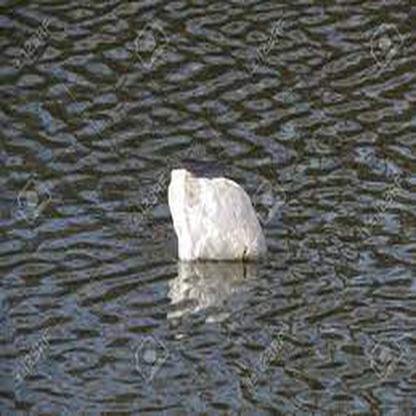plastic bag: (167, 169, 269, 260)
